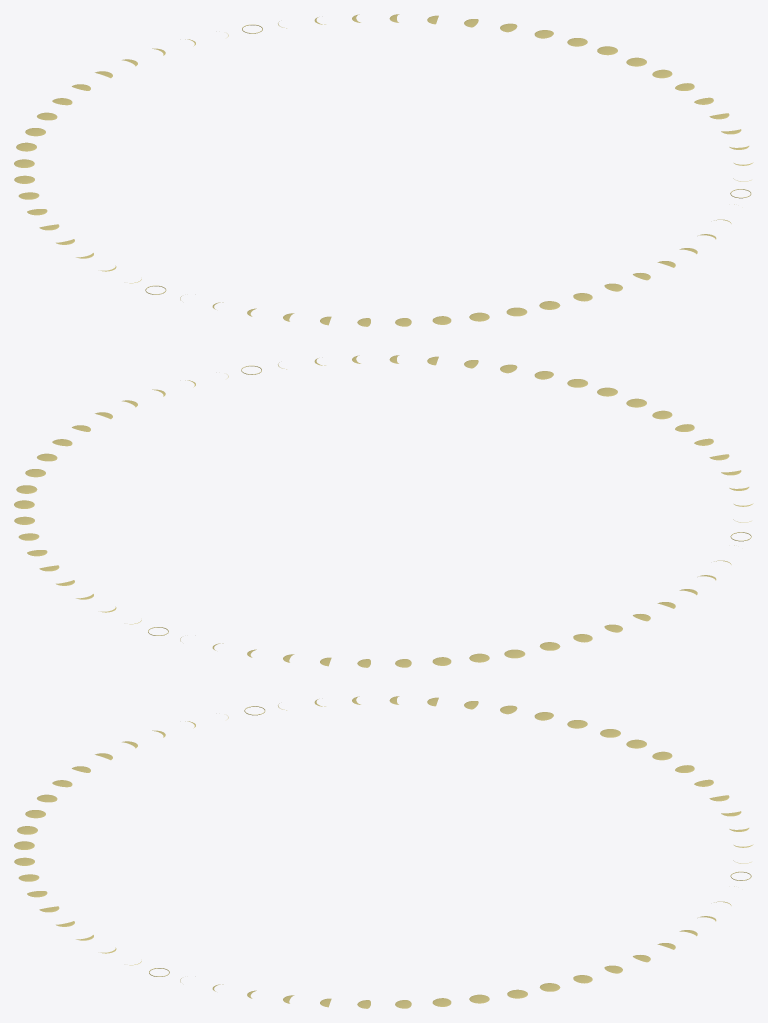
The model's file is moon_combined.fbx.
3 renders of one model, top to bottom at view 1: azimuth 30°, elevation 25°; view 2: azimuth 150°, elevation 25°; view 3: azimuth 270°, elevation 25°, orthographic.
Parts seen in each view (by area): view 1: Moons1_polySurface10; view 2: Moons1_polySurface10; view 3: Moons1_polySurface10.
Part boxes in pixels (left/top/right/bottom): Moons1_polySurface10: left=14, top=14, right=753, bottom=326; Moons1_polySurface10: left=14, top=355, right=753, bottom=667; Moons1_polySurface10: left=14, top=696, right=753, bottom=1008.
Bounding box in the file's own units: 21.91 × 0.0614 × 21.91.
